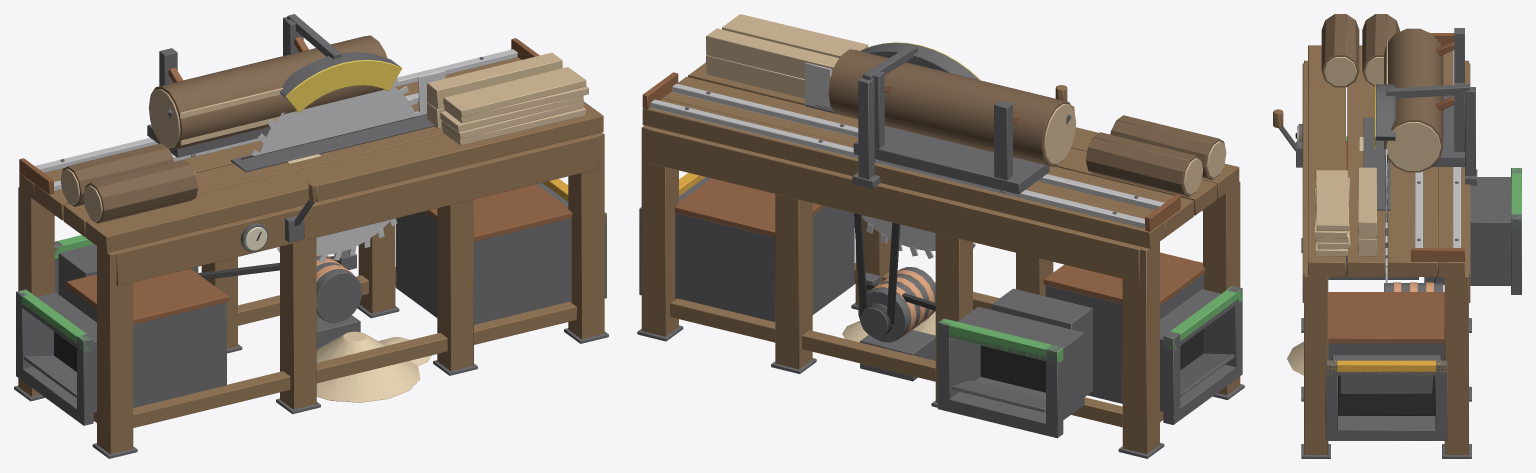
The model's file is feSawmill.fbx.
The picture shows the model from 3 angles, left to right: view 1: azimuth 30°, elevation 25°; view 2: azimuth 150°, elevation 25°; view 3: azimuth 270°, elevation 25°; orthographic projection. The views are drawn at different scales.
Visible parts, largest first — view 1: feSawmill_Base, feSawmill_Carriage, feSawmill_Blade; view 2: feSawmill_Base, feSawmill_Carriage, feSawmill_Blade, feSawmill_MotorPulley; view 3: feSawmill_Base, feSawmill_Carriage.
Part boxes in pixels (x1,y1,x2,y2): feSawmill_Base: [14, 14, 608, 458]; feSawmill_Carriage: [147, 19, 387, 157]; feSawmill_Blade: [251, 79, 423, 262]; feSawmill_Base: [637, 14, 1244, 458]; feSawmill_Carriage: [828, 49, 1076, 194]; feSawmill_Blade: [826, 104, 975, 258]; feSawmill_MotorPulley: [860, 303, 893, 337]; feSawmill_Base: [1273, 14, 1521, 458]; feSawmill_Carriage: [1384, 28, 1464, 172].
Bounding box in the file's own units: 2 × 1.12 × 0.9192.
